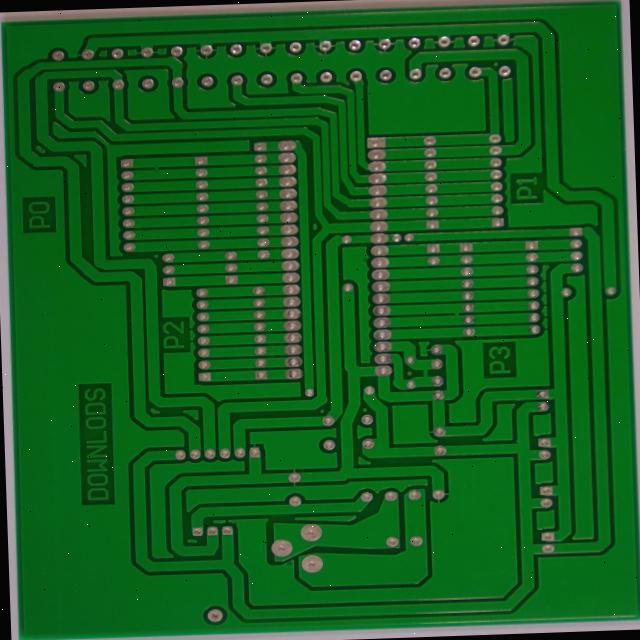short: (373, 405, 409, 428), (53, 177, 84, 200), (414, 341, 441, 361)
